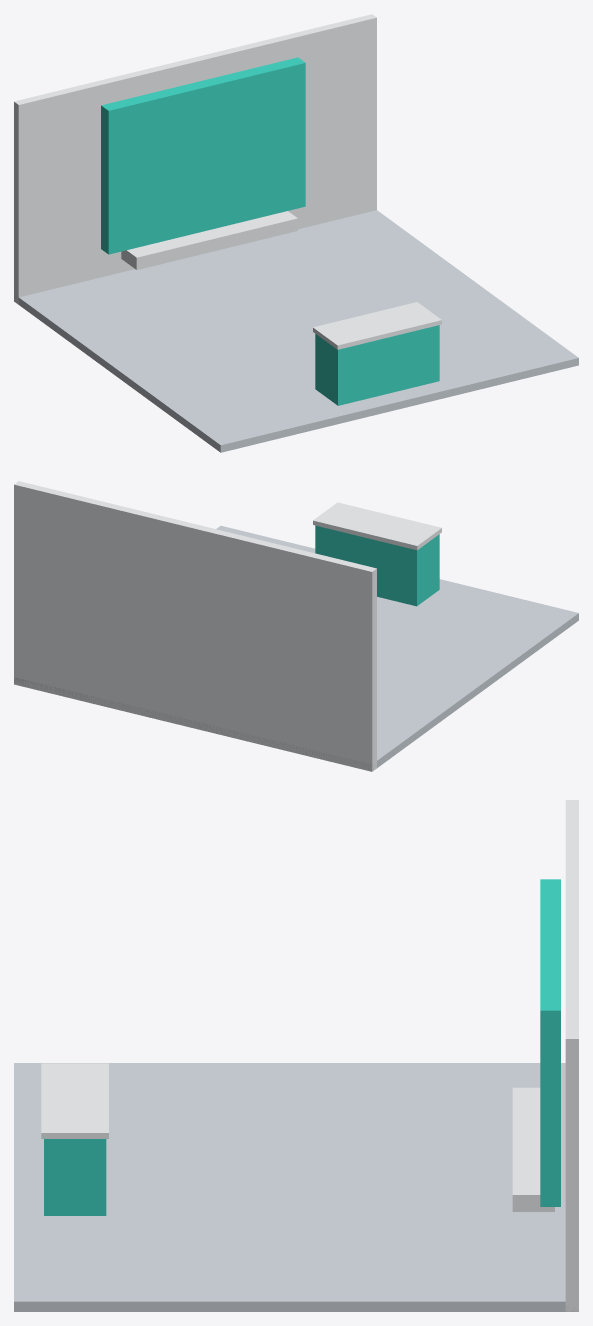
3 views of the same model, one above another, from view 1: azimuth 30°, elevation 25°; view 2: azimuth 150°, elevation 25°; view 3: azimuth 270°, elevation 25° (orthographic). The views are drawn at different scales.
Parts seen in each view (by area): view 1: Exhibition Booth Concept; view 2: Exhibition Booth Concept; view 3: Exhibition Booth Concept.
Part boxes in pixels (box(x1,y1,x2,y2)): Exhibition Booth Concept: box(14, 14, 578, 452); Exhibition Booth Concept: box(14, 481, 578, 771); Exhibition Booth Concept: box(14, 800, 578, 1311).
Bounding box in the file's own units: 6 × 3.2 × 6.
